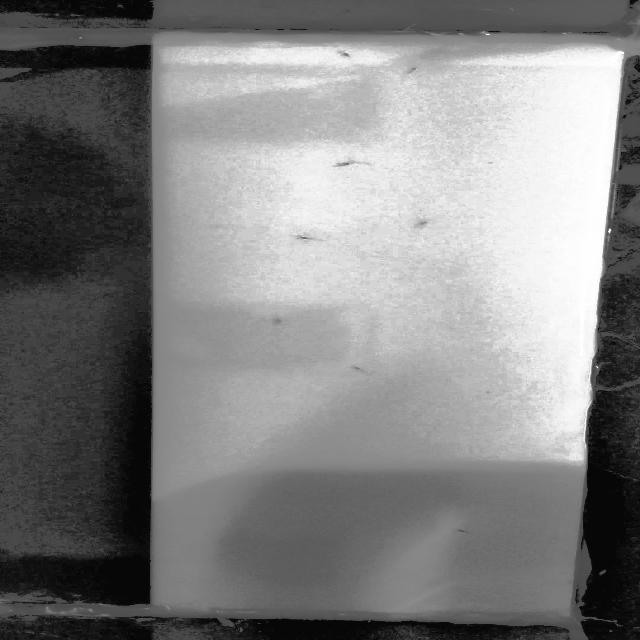shrimp: (323, 159, 371, 172), (397, 64, 426, 78), (330, 48, 358, 61), (268, 314, 286, 325), (294, 234, 313, 244), (348, 362, 363, 372), (455, 526, 472, 534)
